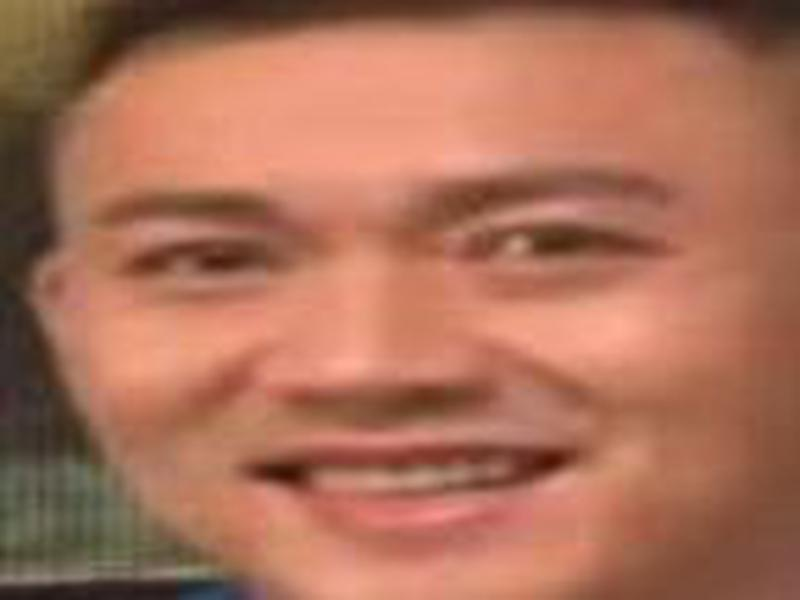without_mask: (68, 97, 793, 591)
